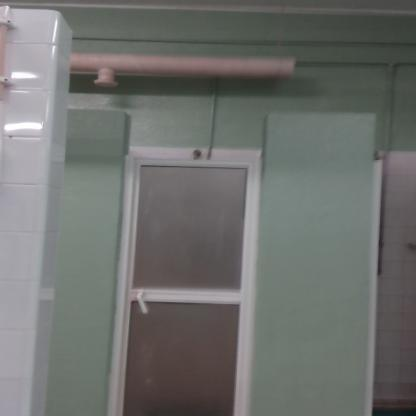door: (126, 152, 249, 416)
lever: (135, 288, 154, 316)
